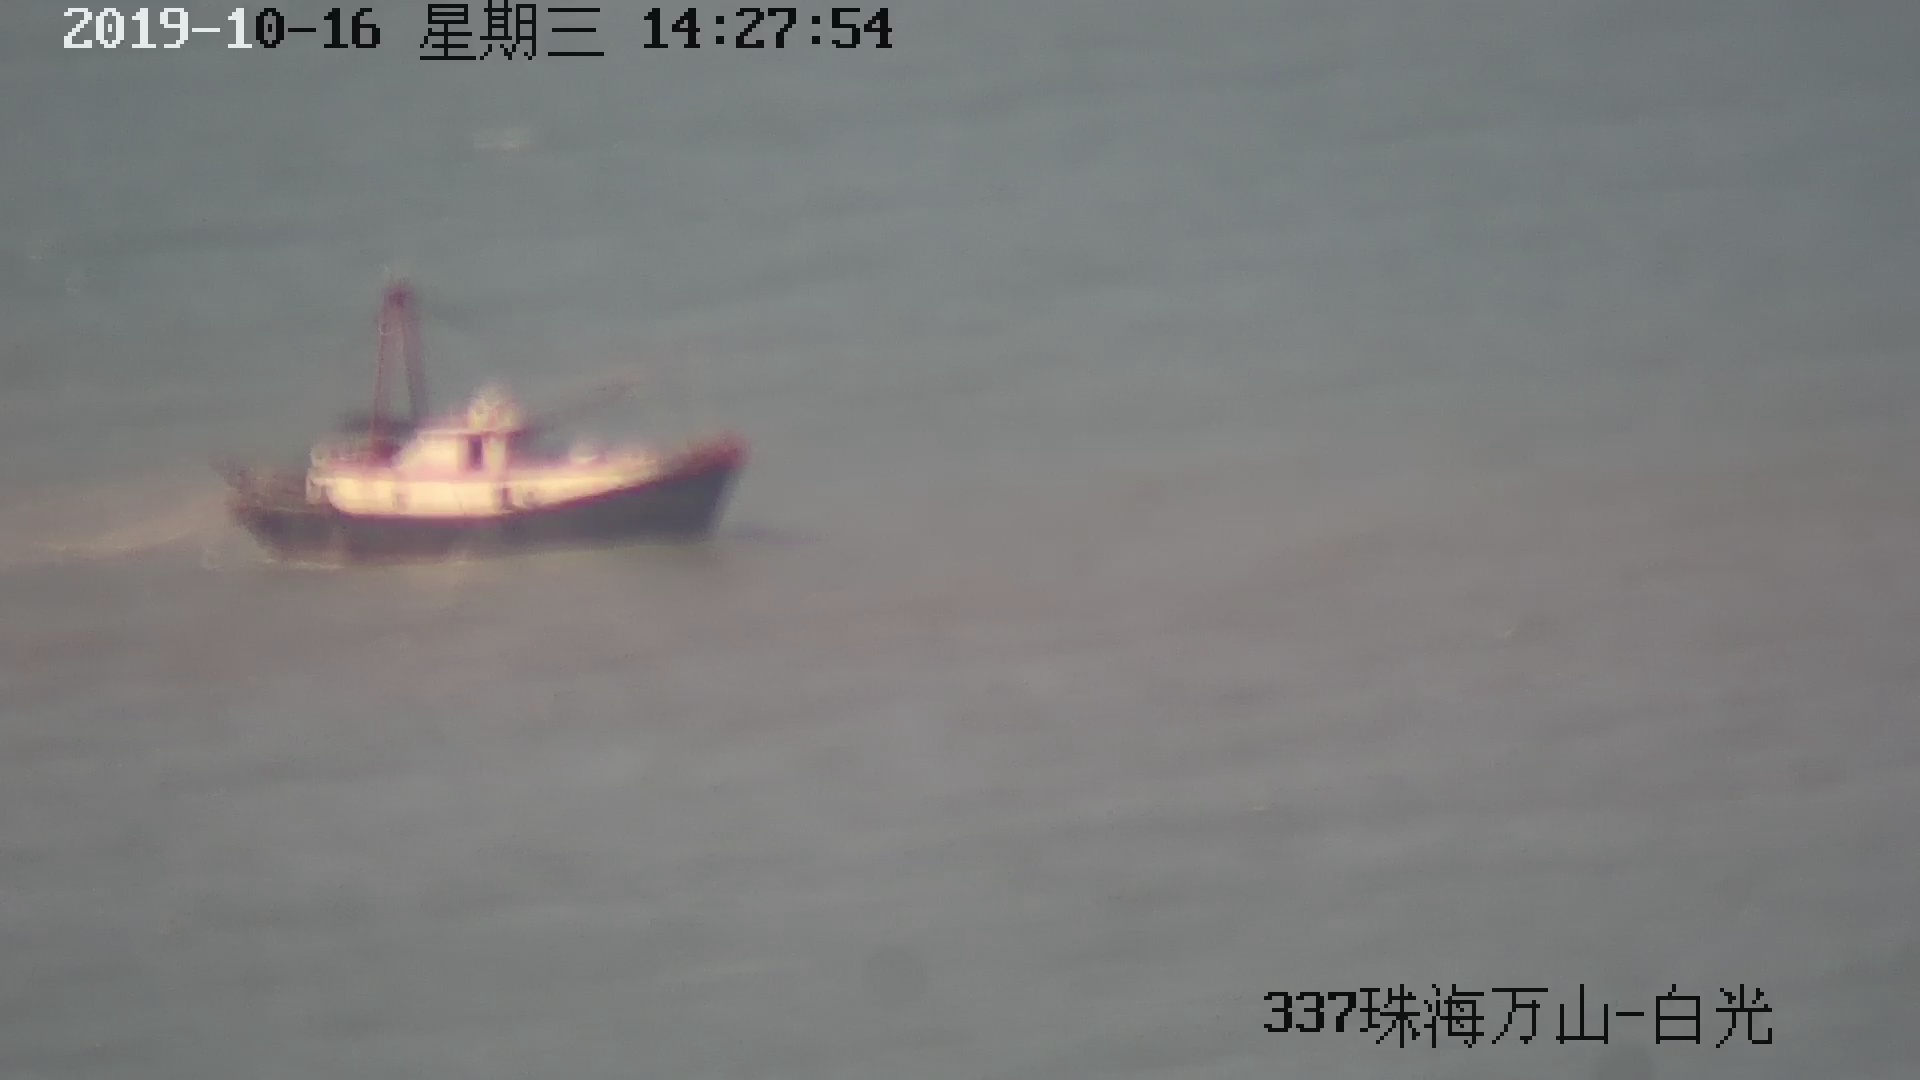ship: (222, 244, 745, 579)
